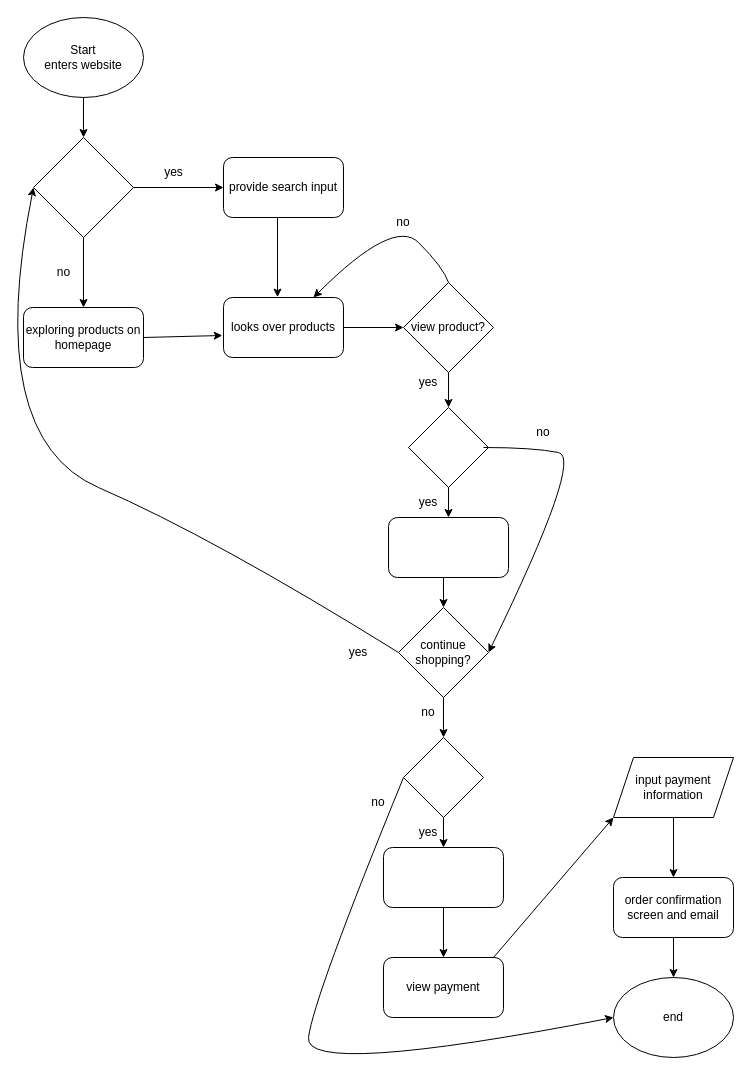
Image size: 751x1075. Some labels were removed from this diagram. Here are the shapes that lost their labels. From the top down, the centre of each, then its label:
[83,187]: searches for product?
[448,447]: add to cart?
[448,547]: added to cart confirmation
[443,777]: checkout?
[443,877]: view cart
